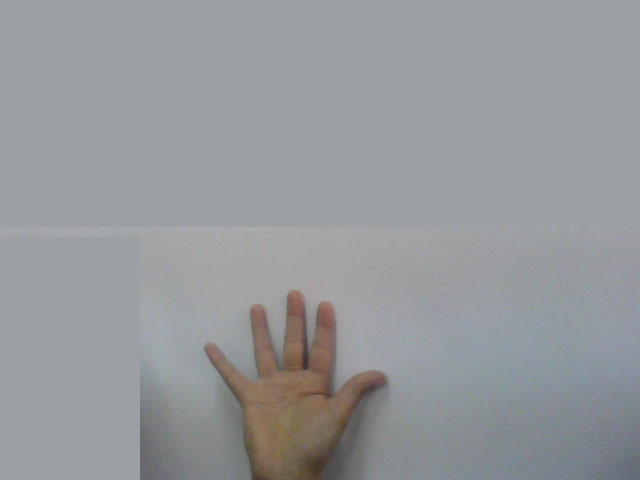hand: (198, 279, 395, 466)
